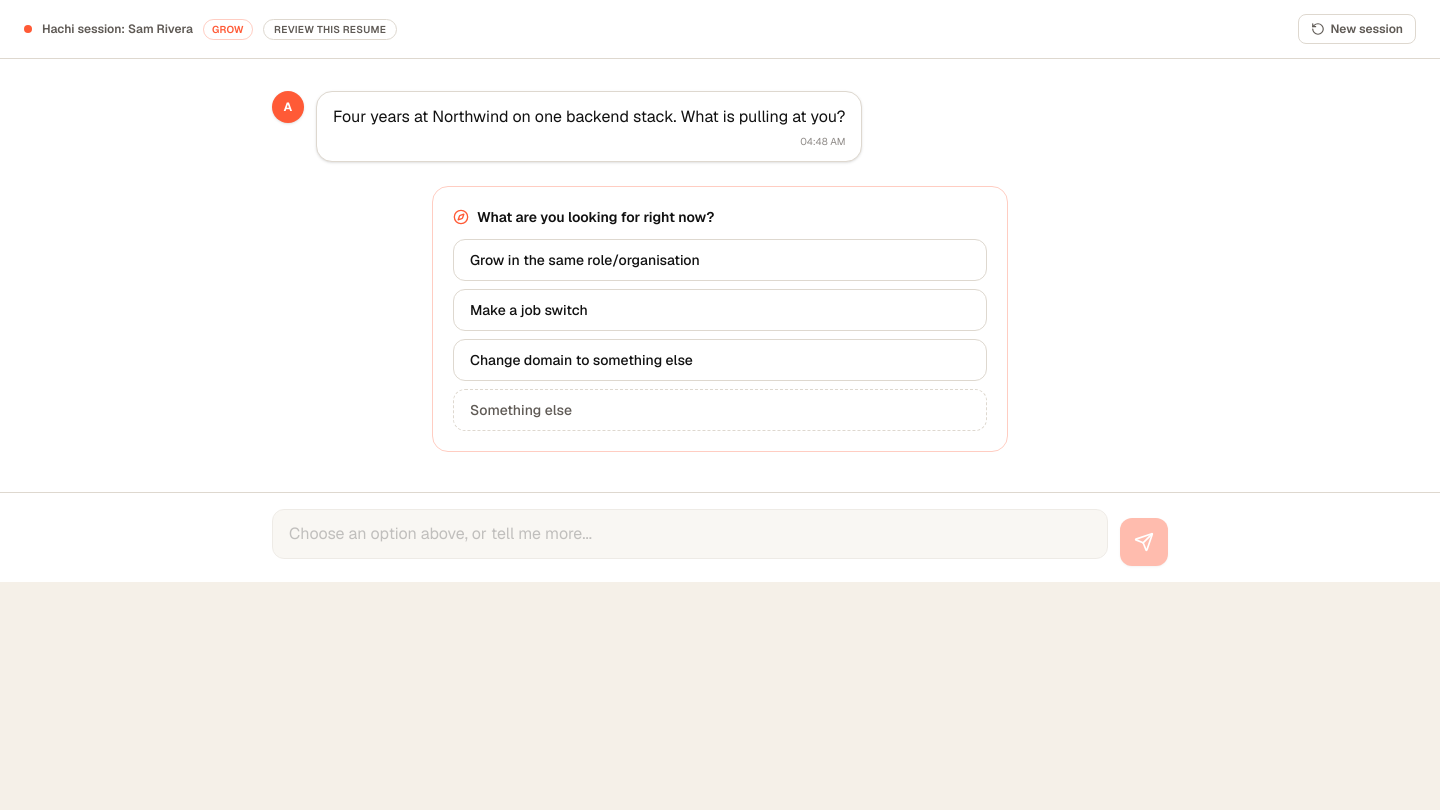
Test case: ChatWindow failure handling › explains the spent budget honestly instead of showing an error, and offers no Retry
The width and height of the screenshot is (1440, 810).
Click the button "Grow in the same role/organisation" at (585, 260), box x1=453 y1=239 x2=987 y2=281
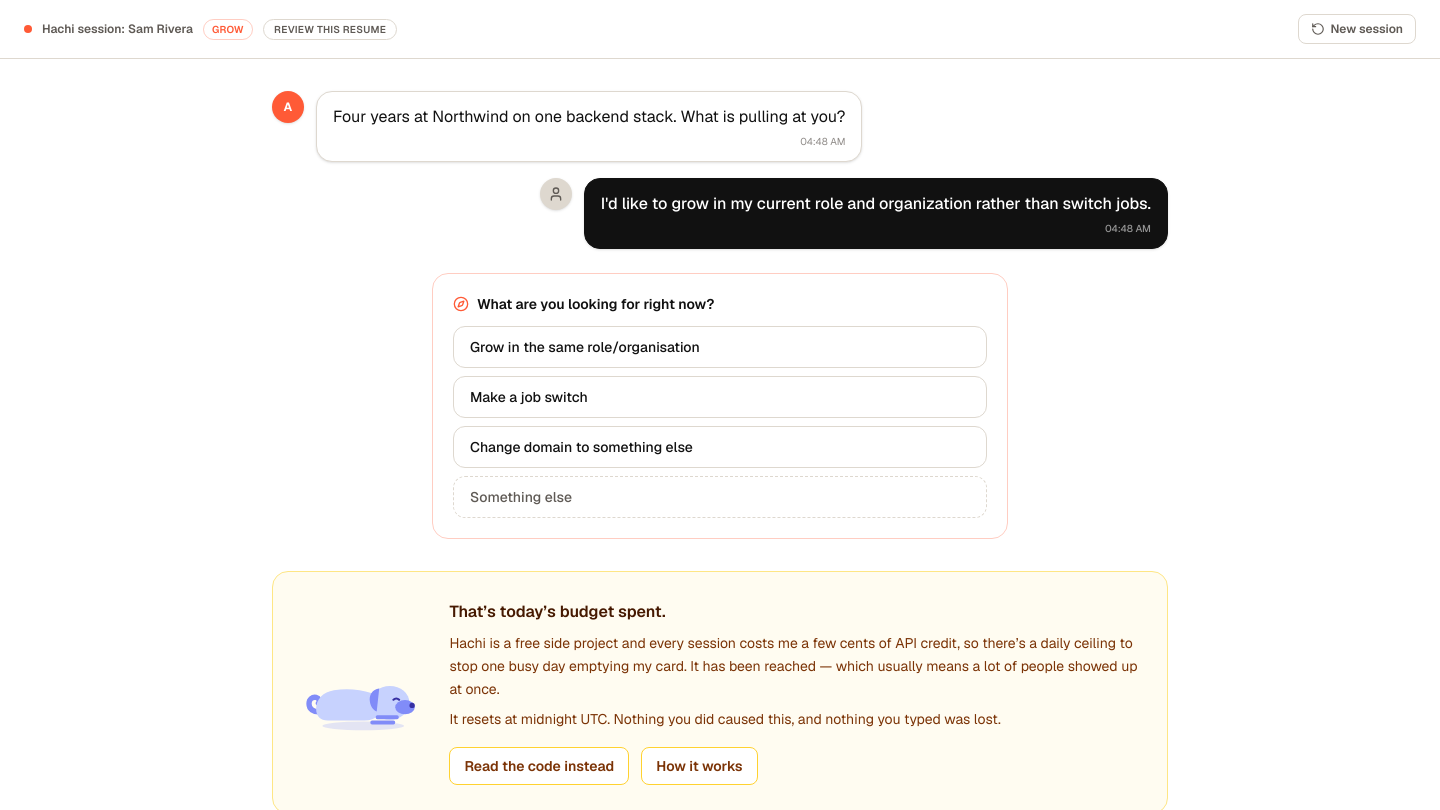
Expected: the message shows "today’s budget spent", x1=449 y1=601 x2=666 y2=622
Expected: the message shows "resets at midnight", x1=449 y1=710 x2=1001 y2=728
Expected: the link "Read the code instead" is shown, x1=449 y1=747 x2=629 y2=785
